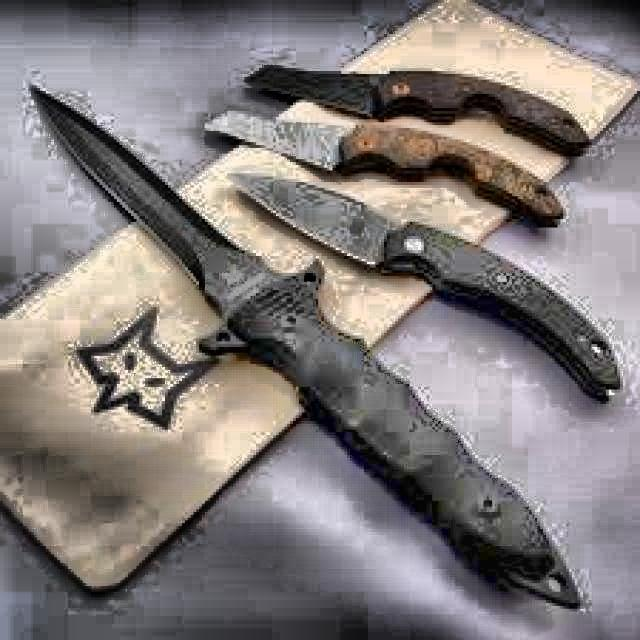knife: (22, 80, 596, 622), (225, 153, 628, 410), (199, 101, 568, 241), (244, 50, 608, 158)
